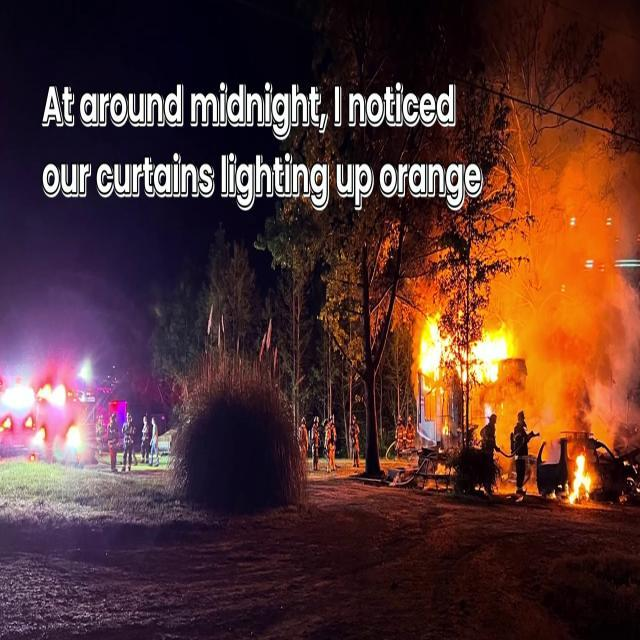Fire: (471, 318, 515, 382), (564, 446, 598, 507), (418, 307, 444, 380)
Smoke: (519, 79, 640, 424)
